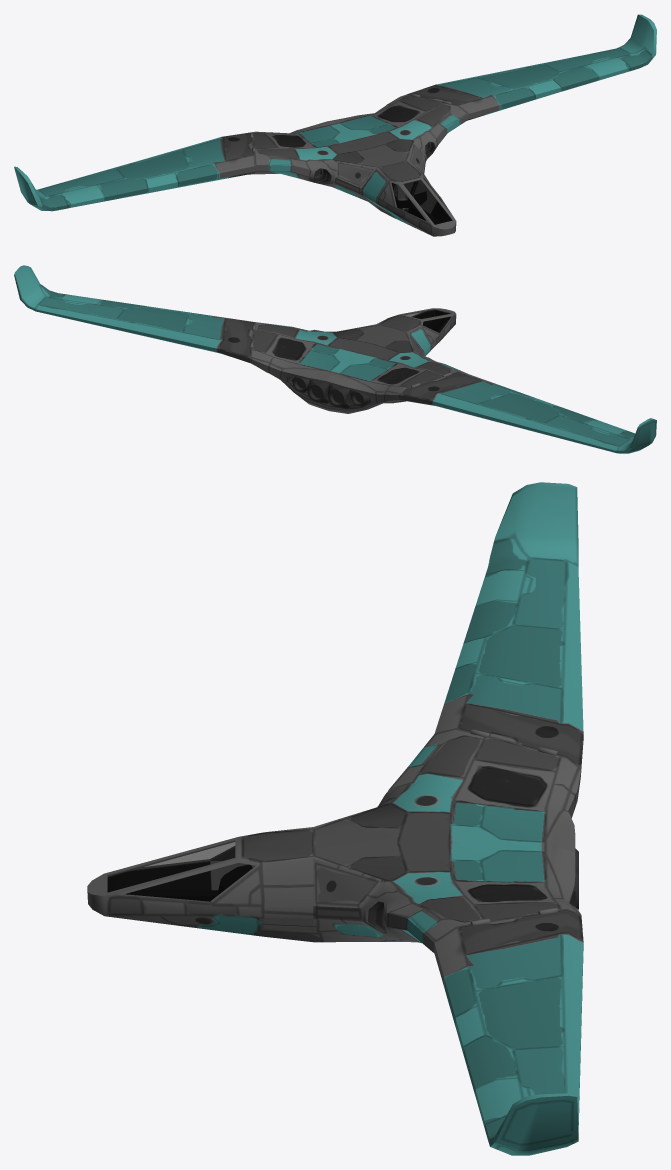
File: Seine.fbx
3 views of the same model, one above another, from view 1: azimuth 30°, elevation 25°; view 2: azimuth 150°, elevation 25°; view 3: azimuth 270°, elevation 25° (orthographic). The views are drawn at different scales.
Parts seen in each view (by area): view 1: Seine_II; view 2: Seine_II; view 3: Seine_II.
Boxes of the visible parts, left/top/right/bottom form: Seine_II: left=14, top=14, right=656, bottom=236; Seine_II: left=14, top=265, right=656, bottom=453; Seine_II: left=87, top=482, right=583, bottom=1155.
Bounding box in the file's own units: 3580 × 388 × 1219.
Materials: 2 (1 with a texture image).
